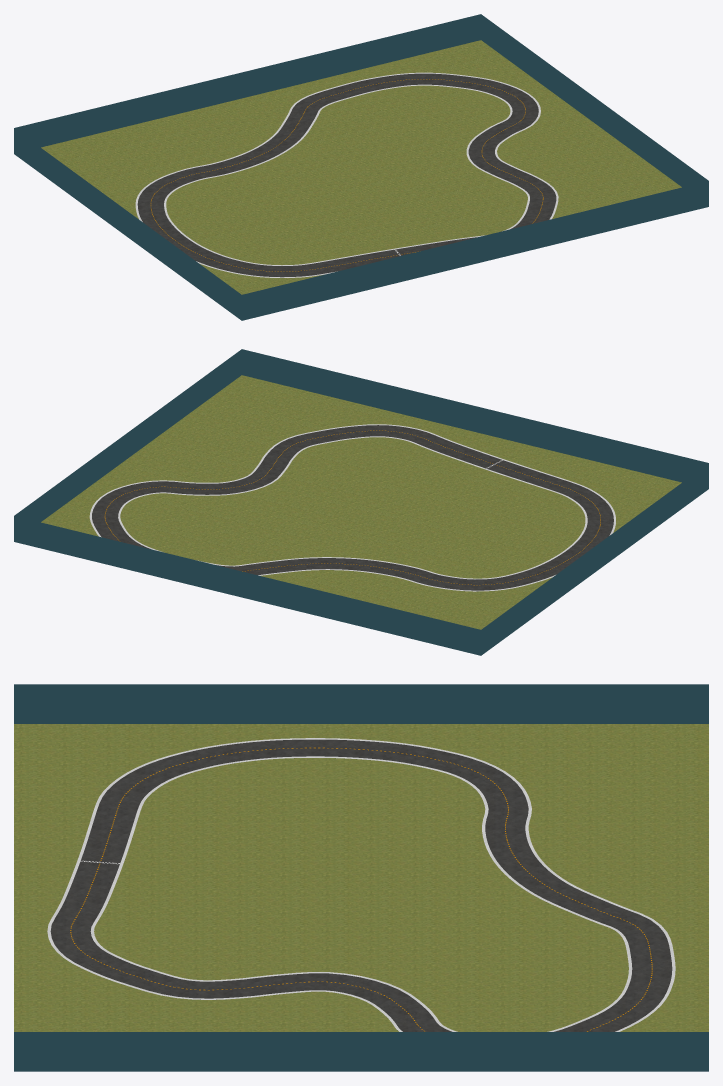
File: 2022_march_open_cw.dae
3 views of the same model, one above another, from view 1: azimuth 30°, elevation 25°; view 2: azimuth 150°, elevation 25°; view 3: azimuth 270°, elevation 25° (orthographic). The views are drawn at different scales.
Parts seen in each view (by area): view 1: field, wall, road, il, ol, cl; view 2: field, wall, road, il, ol, cl; view 3: field, wall, road, ol, il, cl.
Part boxes in pixels (x1,y1,x2,y2): field: [41, 40, 681, 294]; wall: [14, 14, 708, 320]; road: [137, 73, 556, 277]; il: [164, 84, 529, 265]; ol: [135, 72, 558, 277]; cl: [150, 79, 543, 271]; field: [41, 375, 681, 629]; wall: [14, 349, 708, 655]; road: [92, 425, 613, 591]; il: [118, 436, 587, 579]; ol: [89, 424, 615, 591]; cl: [104, 430, 600, 585]; field: [14, 724, 708, 1031]; wall: [14, 684, 708, 1071]; road: [50, 739, 672, 1031]; ol: [47, 738, 675, 1031]; il: [90, 756, 632, 1031]; cl: [70, 747, 652, 1031].
Bounding box in the file's own units: 18.78 × 15.87 × 1.
7 materials, 7 textured.
